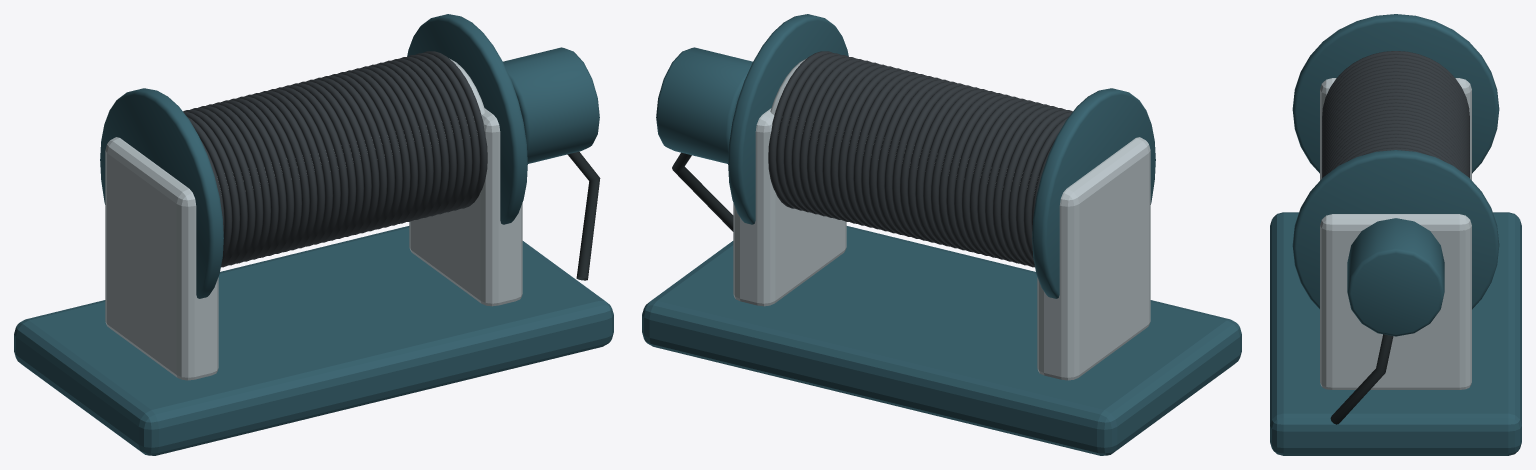
The model's file is hydraulic_winch.glb.
The picture shows the model from 3 angles, left to right: view 1: azimuth 30°, elevation 25°; view 2: azimuth 150°, elevation 25°; view 3: azimuth 270°, elevation 25°; orthographic projection. The views are drawn at different scales.
Visible parts, largest first — view 1: Winch welded skid, Winch bearing pedestal, Winch bearing pedestal.001, Drum flange, Hydraulic drive, Drum flange.001, Hydraulic hose, Cable winding.027, Cable winding.019, Cable winding.011, Cable winding.007, Cable winding.026 (+29 smaller); view 2: Winch welded skid, Winch bearing pedestal, Winch bearing pedestal.001, Drum flange, Hydraulic drive, Drum flange.001, Cable winding.027, Cable winding.019, Cable winding.011, Cable winding.007, Cable winding.026, Cable winding.008 (+29 smaller); view 3: Winch welded skid, Winch bearing pedestal.001, Drum flange.001, Drum flange, Hydraulic drive, Hydraulic hose, Winch bearing pedestal, Cable winding.010, Cable winding.012, Cable winding.008, Cable winding.001, Cable winding.003 (+23 smaller).
Part boxes in pixels (x1,y1,x2,y2): Winch welded skid: (14, 226, 613, 455); Winch bearing pedestal: (105, 137, 218, 380); Winch bearing pedestal.001: (409, 108, 522, 306); Drum flange: (100, 88, 223, 298); Hydraulic drive: (503, 47, 599, 163); Drum flange.001: (407, 14, 527, 224); Hydraulic hose: (567, 151, 600, 280); Cable winding.027: (369, 64, 433, 221); Cable winding.019: (307, 79, 371, 236); Cable winding.011: (244, 94, 309, 252); Cable winding.007: (214, 102, 278, 259); Cable winding.026: (360, 66, 425, 223); Winch welded skid: (642, 226, 1241, 455); Winch bearing pedestal: (1037, 137, 1150, 380); Winch bearing pedestal.001: (733, 108, 846, 306); Drum flange: (1032, 88, 1155, 298); Hydraulic drive: (656, 47, 752, 163); Drum flange.001: (728, 14, 848, 224); Cable winding.027: (822, 64, 886, 221); Cable winding.019: (884, 79, 948, 236); Cable winding.011: (946, 94, 1011, 252); Cable winding.007: (977, 102, 1041, 259); Cable winding.026: (830, 66, 895, 223); Cable winding.008: (969, 100, 1034, 257); Winch welded skid: (1270, 212, 1521, 455); Winch bearing pedestal.001: (1320, 214, 1471, 389); Drum flange.001: (1292, 150, 1499, 309); Drum flange: (1292, 14, 1499, 173); Hydraulic drive: (1347, 218, 1444, 336); Hydraulic hose: (1330, 334, 1393, 424); Winch bearing pedestal: (1320, 78, 1471, 180); Cable winding.010: (1322, 85, 1469, 153); Cable winding.012: (1322, 92, 1469, 160); Cable winding.008: (1322, 78, 1469, 146); Cable winding.001: (1322, 54, 1469, 122); Cable winding.003: (1322, 61, 1469, 129).
Bounding box in the file's own units: 1.79 × 0.985 × 0.83.
